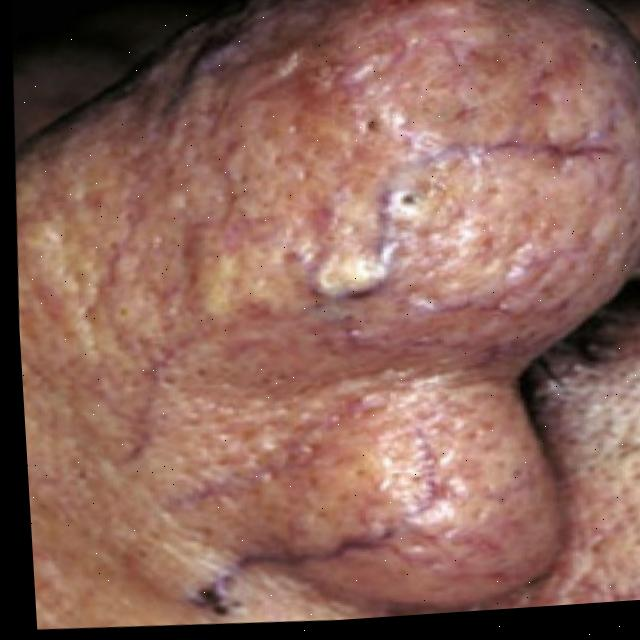Rosacea: (28, 0, 640, 638)
